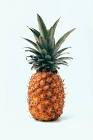Pineapple: (21, 13, 78, 122)
